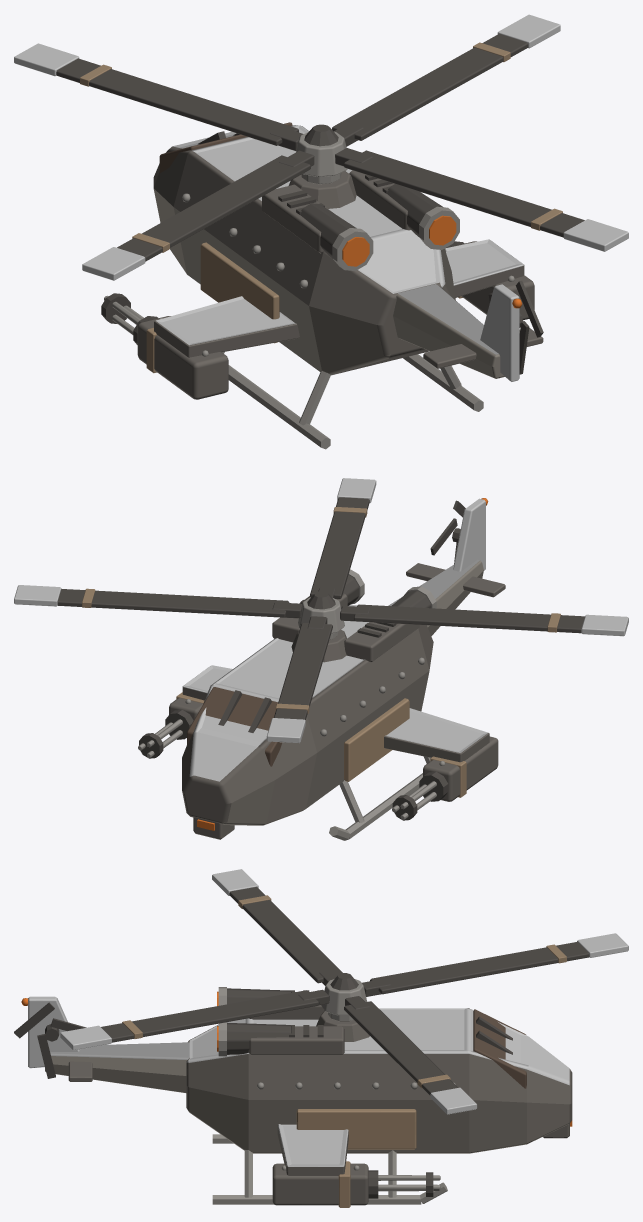
Rendered from crucible_gunship.glb.
3 views of the same model, one above another, from view 1: azimuth 30°, elevation 25°; view 2: azimuth 150°, elevation 25°; view 3: azimuth 270°, elevation 25° (orthographic). The views are drawn at different scales.
Parts seen in each view (by area): view 1: Body, Rotor_Y; view 2: Body, Rotor_Y; view 3: Body, Rotor_Y.
Boxes of the visible parts, x1,y1,x2,y2 form: Body: [101, 122, 543, 449]; Rotor_Y: [14, 14, 628, 280]; Body: [138, 498, 505, 840]; Rotor_Y: [14, 478, 628, 742]; Body: [14, 987, 572, 1207]; Rotor_Y: [60, 869, 628, 1114].
Bounding box in the file's own units: 2.37 × 0.912 × 2.56.
